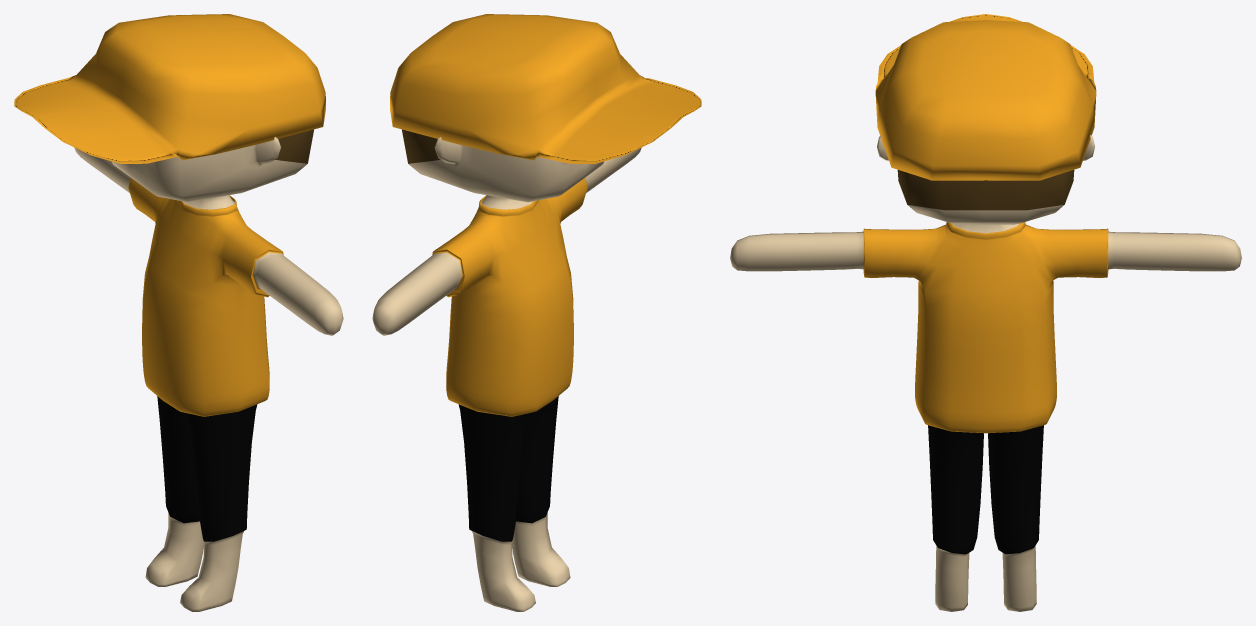
File: PLAYER.fbx
3 views of the same model, side by side, from view 1: azimuth 30°, elevation 25°; view 2: azimuth 150°, elevation 25°; view 3: azimuth 270°, elevation 25° (orthographic).
Visible parts, largest first — view 1: pCube8; view 2: pCube8; view 3: pCube8.
Part boxes in pixels (left/top/right/bottom): pCube8: left=14, top=14, right=343, bottom=611; pCube8: left=372, top=14, right=701, bottom=611; pCube8: left=730, top=14, right=1241, bottom=611.
Bounding box in the file's own units: 2.61 × 5.21 × 4.33.
